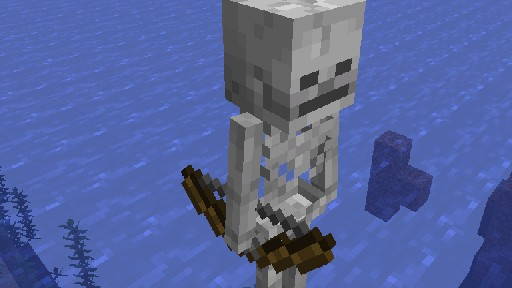skeleton: (180, 0, 365, 288)
